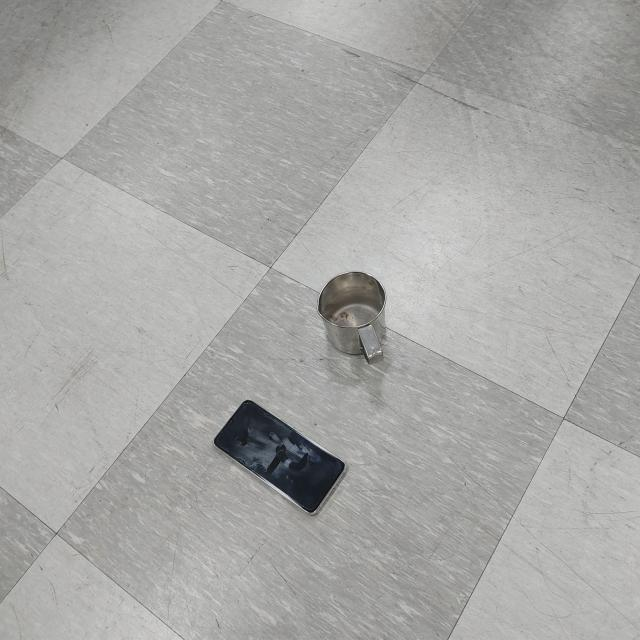cup: (315, 270, 390, 366)
phone: (214, 399, 344, 514)
